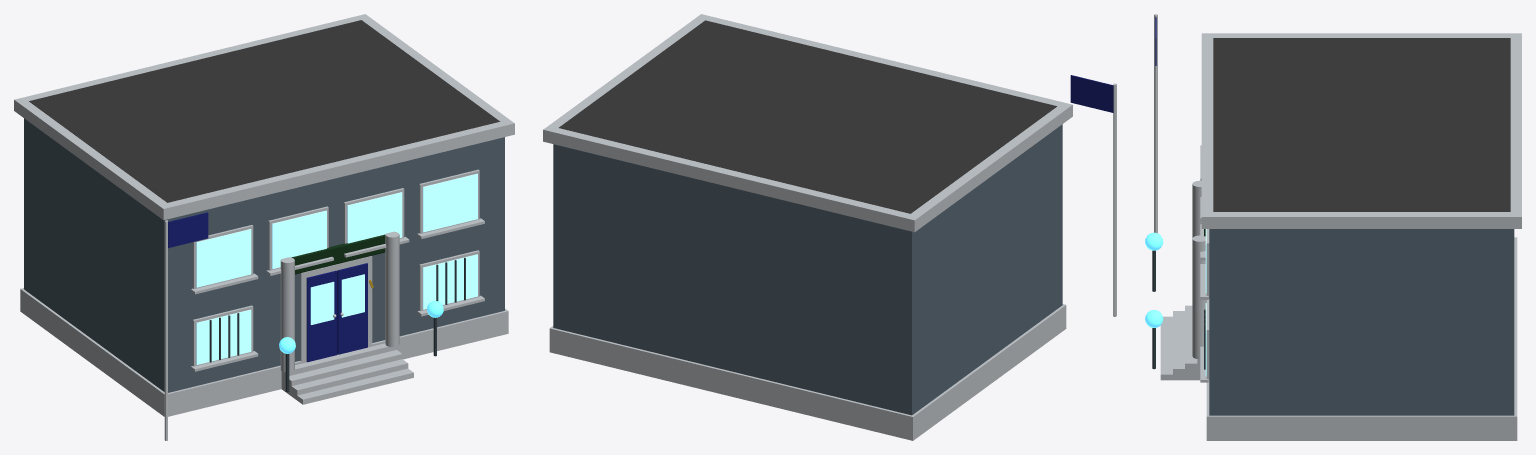
File: foot_police.glb
3 views of the same model, side by side, from view 1: azimuth 30°, elevation 25°; view 2: azimuth 150°, elevation 25°; view 3: azimuth 270°, elevation 25° (orthographic). The views are drawn at different scales.
Visible parts, largest first — view 1: FootPolice_body; view 2: FootPolice_body; view 3: FootPolice_body.
Boxes of the visible parts, x1,y1,x2,y2 form: FootPolice_body: (14,14,514,440); FootPolice_body: (543,14,1116,440); FootPolice_body: (1145,14,1521,440).
Bounding box in the file's own units: 12.05 × 6.8 × 9.89.
